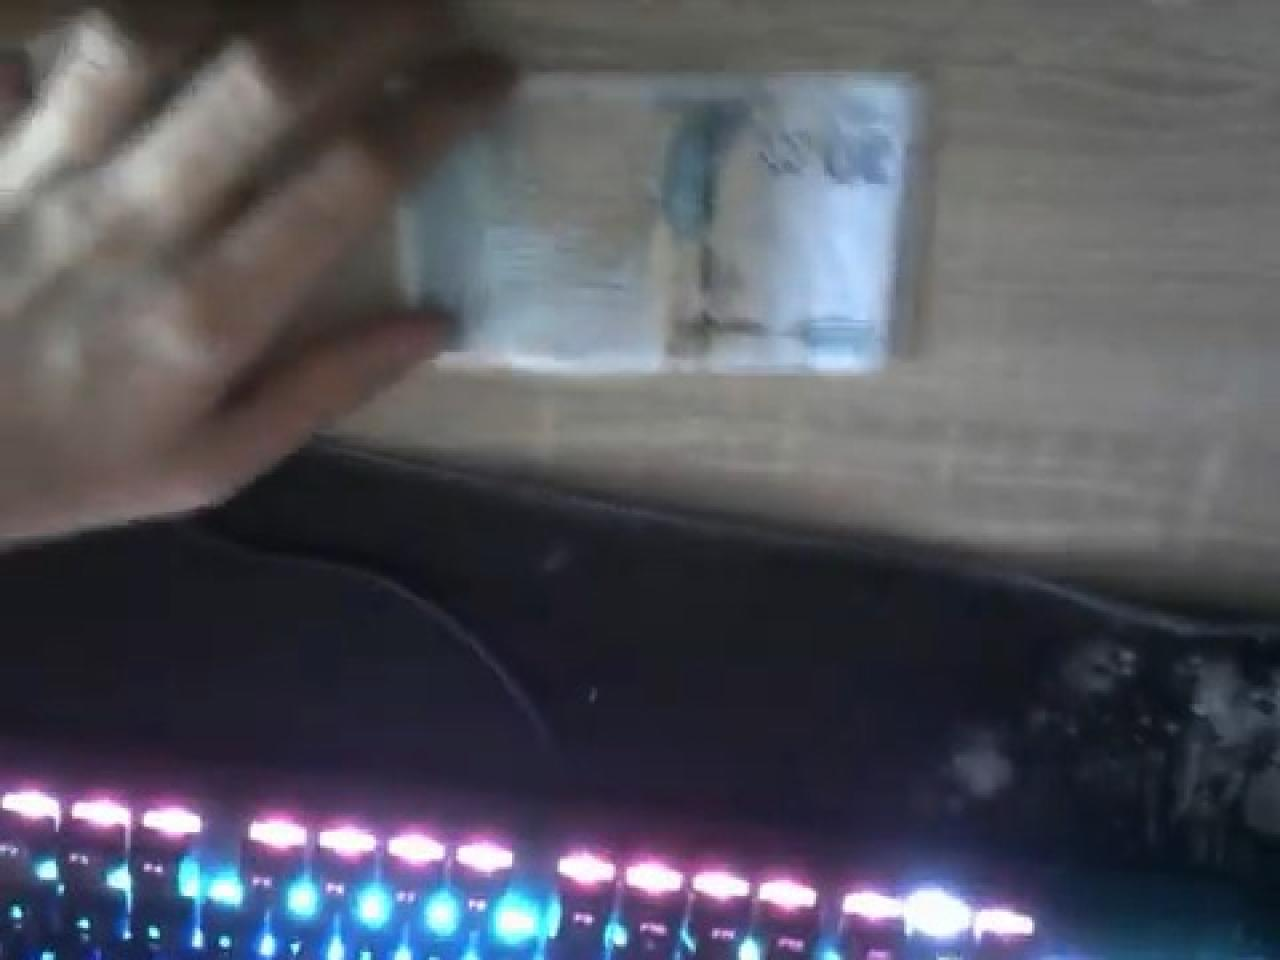20leva: (395, 58, 941, 376)
